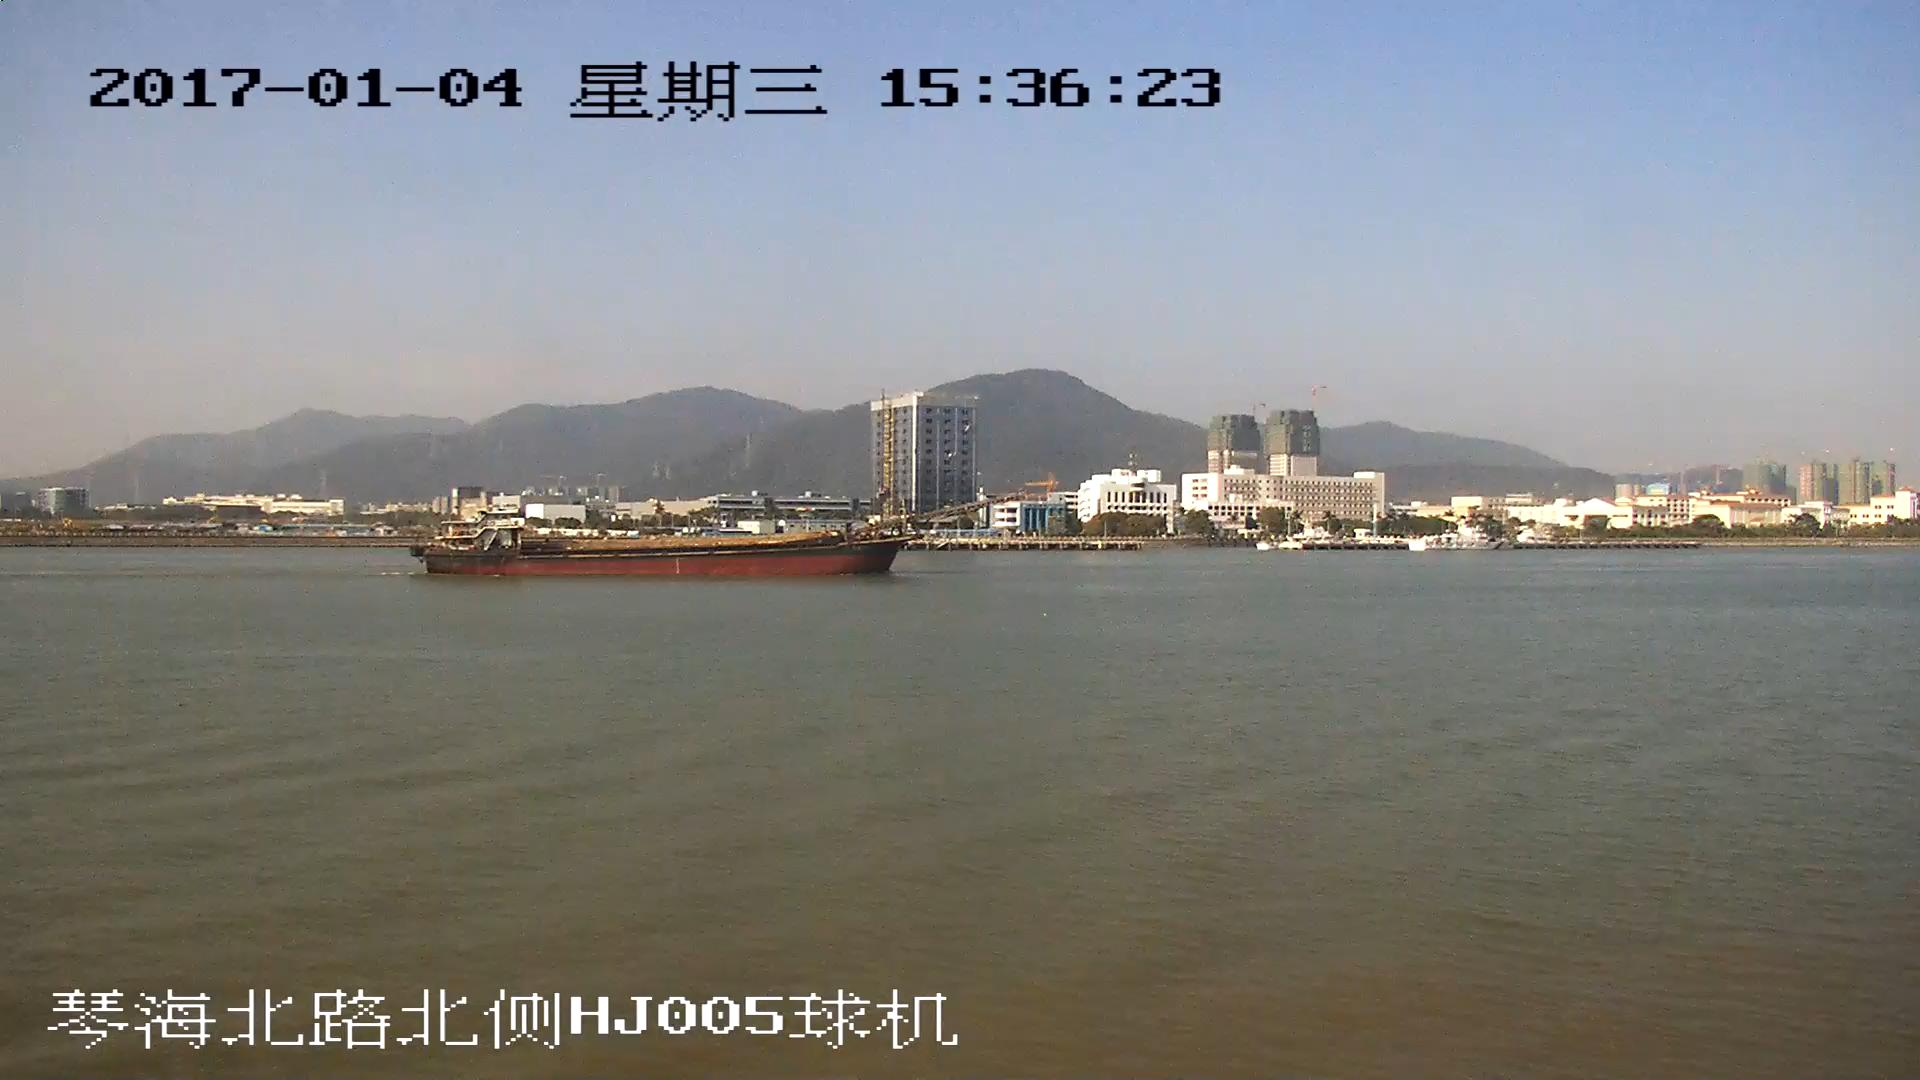bulk cargo carrier: (416, 490, 1021, 573)
